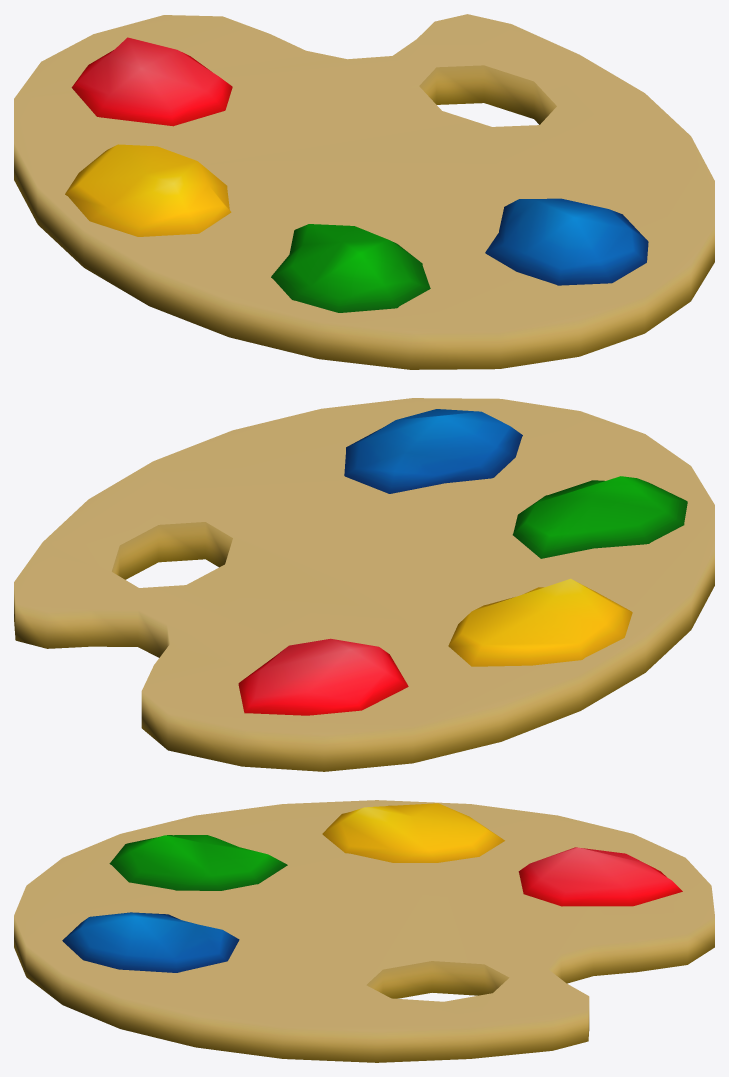
Rendered from palette.fbx.
The picture shows the model from 3 angles, top to bottom: view 1: azimuth 30°, elevation 25°; view 2: azimuth 150°, elevation 25°; view 3: azimuth 270°, elevation 25°; orthographic projection. The views are drawn at different scales.
Parts seen in each view (by area): view 1: palette; view 2: palette; view 3: palette.
Boxes of the visible parts, box(x1,y1,x2,y2) form: palette: box(14, 14, 714, 369); palette: box(14, 398, 714, 771); palette: box(14, 800, 714, 1062).
Size of the model in its own units: 13.82 by 1.63 by 17.72.
